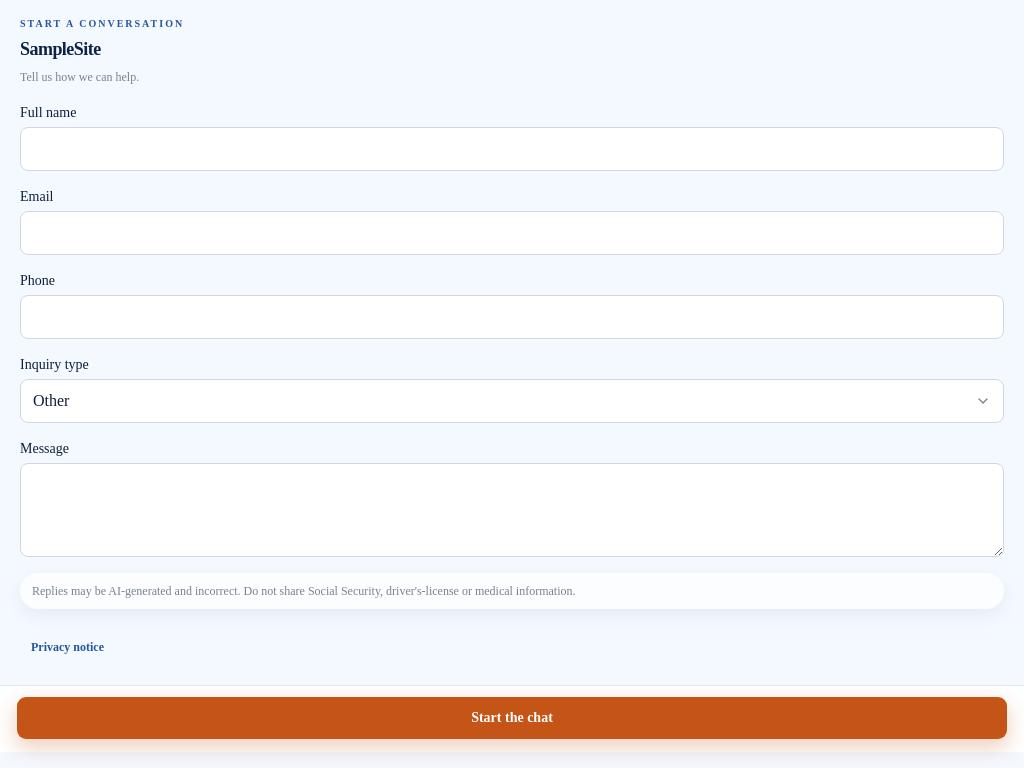
pre-chat form › invalid email keeps the form visible, focuses Email, and sends nothing
In the field labelled "Full name": (512, 149) 20,127 -> 1004,171, type "Ada Lopez"
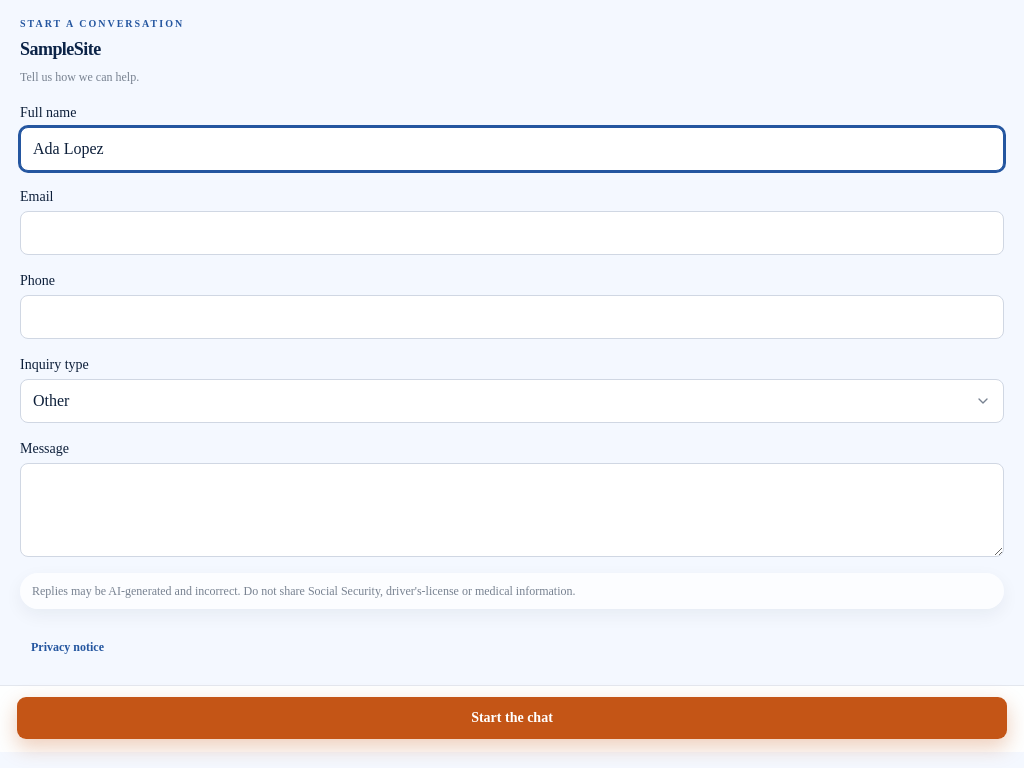
In the field labelled "Email": (512, 233) 20,211 -> 1004,255, type "not-an-email"
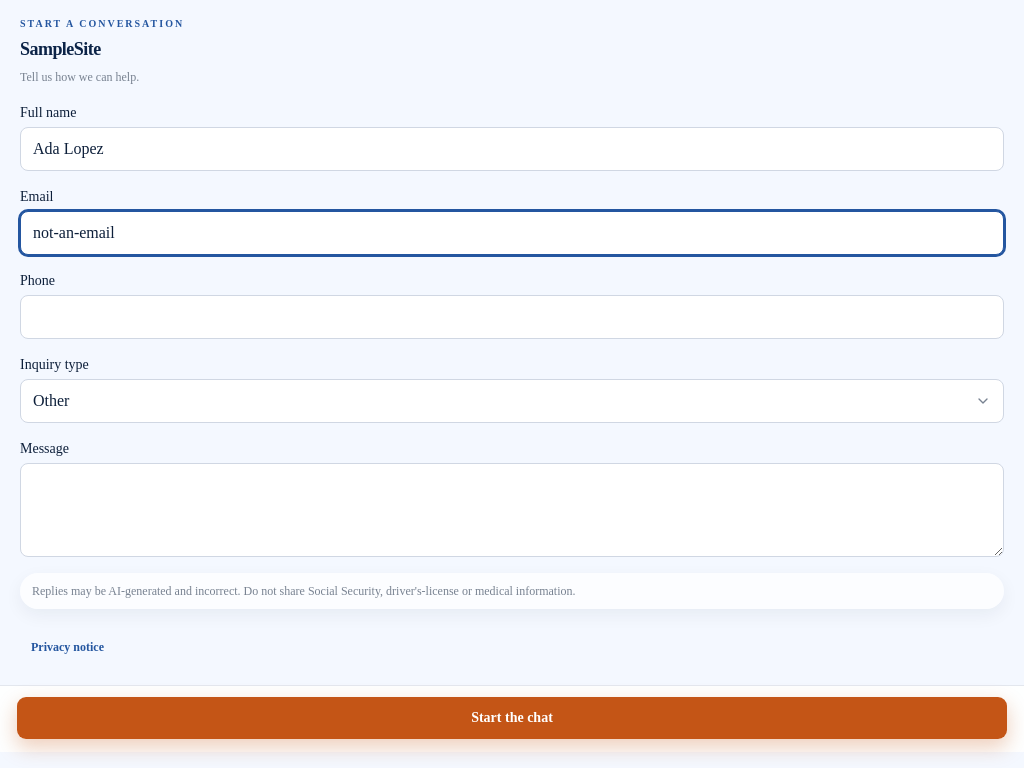
Click the button "Start the chat": (512, 718) 16,696 -> 1008,740
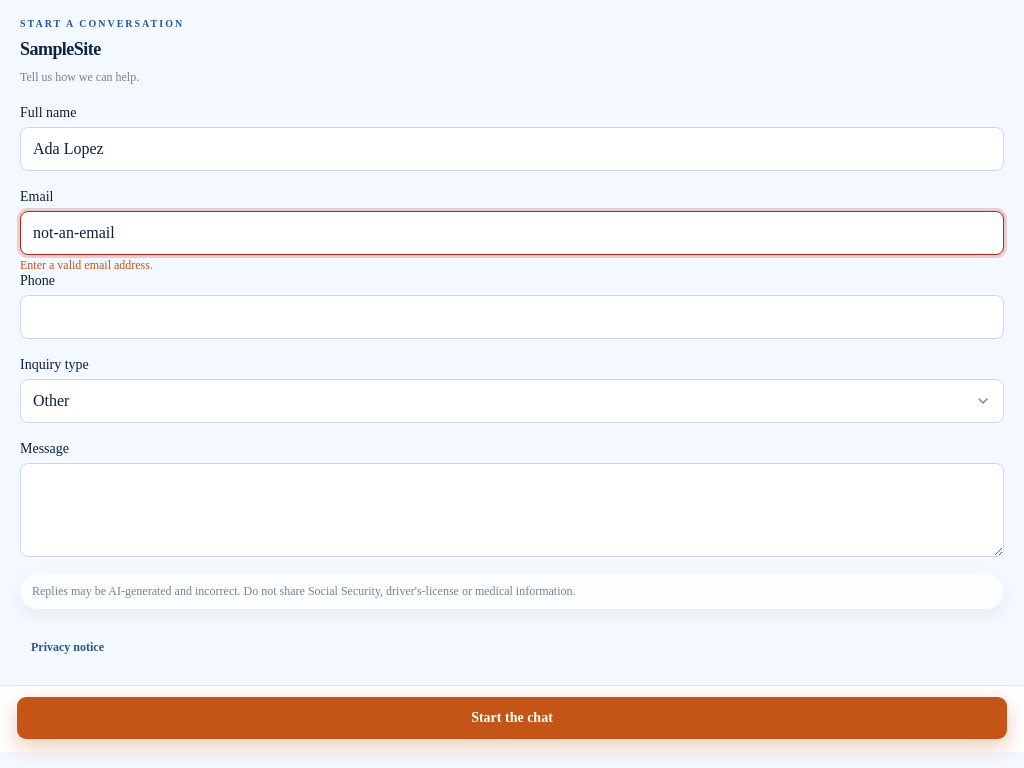
expect the text "Enter a valid email address." is shown: met, box 20,258 -> 153,272
